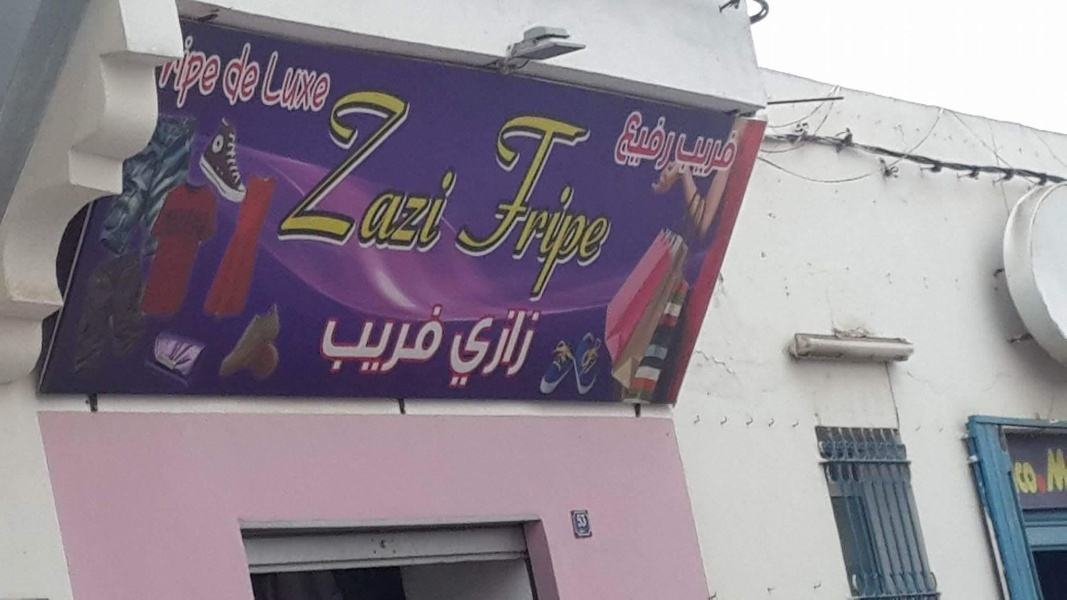text: (497, 106, 512, 302), (513, 106, 528, 302), (529, 106, 544, 302), (545, 106, 560, 302), (561, 106, 576, 302), (577, 106, 592, 302), (593, 106, 608, 302), (609, 106, 624, 302), (337, 87, 352, 254), (353, 87, 368, 254), (369, 87, 384, 254), (385, 87, 400, 254), (401, 87, 416, 254), (417, 87, 432, 254), (433, 87, 448, 254), (449, 87, 464, 254), (465, 87, 475, 254), (177, 31, 192, 117), (193, 31, 208, 117), (209, 31, 224, 117), (465, 307, 480, 390), (481, 307, 496, 390), (497, 307, 512, 390), (513, 307, 528, 390), (529, 307, 544, 390), (337, 298, 352, 377), (353, 298, 368, 377), (369, 298, 384, 377), (385, 298, 400, 377), (401, 298, 416, 377), (417, 298, 432, 377), (433, 298, 448, 377), (241, 41, 256, 110), (273, 48, 288, 116), (289, 48, 304, 116), (305, 48, 320, 116), (321, 48, 336, 116), (625, 106, 640, 174), (641, 106, 656, 174), (657, 106, 672, 174), (257, 41, 269, 110), (689, 124, 704, 178), (705, 124, 720, 178), (721, 124, 736, 178), (230, 41, 240, 110), (1044, 445, 1056, 501), (1009, 456, 1024, 499), (1025, 456, 1040, 499), (449, 298, 456, 377), (170, 31, 176, 117), (673, 106, 680, 174), (1057, 445, 1065, 501), (459, 307, 464, 390), (331, 298, 336, 377), (494, 106, 496, 302), (682, 124, 688, 178), (737, 124, 743, 178), (1041, 456, 1048, 499), (577, 512, 588, 529), (225, 31, 227, 117), (622, 106, 624, 174), (271, 48, 272, 116)
